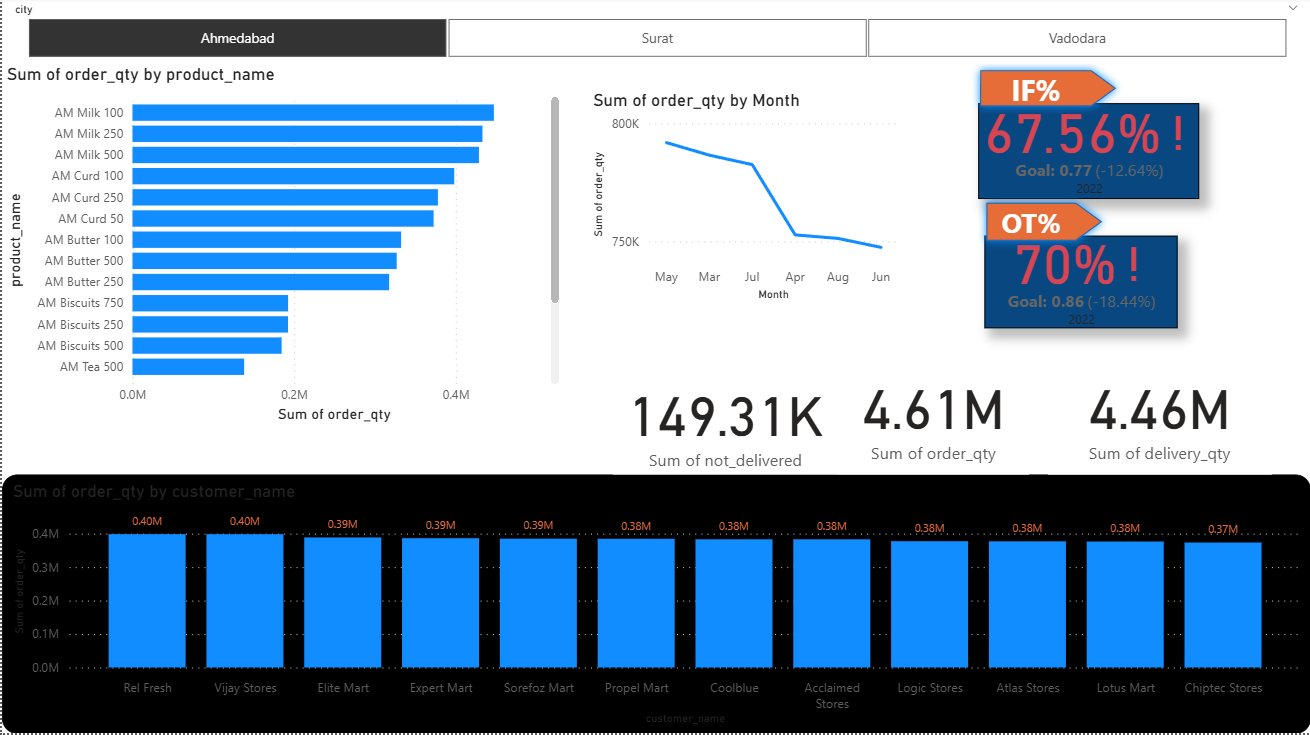

The page's visual inventory and layout, read from the dashboard file:
{"tool":"powerbi","page":{"name":"Page 3","canvas":[1280,720],"ordinal":2},"visuals":[{"type":"kpi","fields":{"TrendLine":["fact_order_lines.Year"],"Goal":["dim_targets_orders.IF_avg"],"Indicator":["fact_order_lines.IF% achieved"]},"box":[954.7,103.4,216.3,94],"z":0,"group":"g1"},{"type":"kpi","fields":{"TrendLine":["fact_order_lines.Year"],"Goal":["dim_targets_orders.OT_avg"],"Indicator":["fact_order_lines.ot%_achieved"]},"box":[960.6,233.1,188.6,90.5],"z":0,"group":"g2"},{"type":"clusteredColumnChart","fields":{"Category":["dim_customers.customer_name"],"Y":["Sum(fact_order_lines.order_qty)"]},"box":[0,466.7,1280,253.3],"z":0},{"type":"barChart","fields":{"Category":["dim_products.product_name"],"Y":["Sum(fact_order_lines.order_qty)"]},"box":[0,65,550,356.7],"z":1},{"type":"lineChart","fields":{"Y":["Sum(fact_order_lines.order_qty)"],"Category":["fact_order_lines.Month"]},"box":[573.3,90,308.3,211.7],"z":2},{"type":"slicer","fields":{"Values":["dim_customers.city"]},"box":[0,0,1280,65],"z":3},{"type":"card","fields":{"Values":["Sum(fact_order_lines.order_qty)"]},"box":[818.3,346.7,186.7,120],"z":4},{"type":"card","fields":{"Values":["Sum(fact_order_lines.delivery_qty)"]},"box":[1023.3,346.7,218.3,120],"z":5},{"type":"group","id":"g1","title":"Group 1","box":[948.3,63.3,223.3,133.3],"z":6},{"type":"group","id":"g2","title":"Group 1","box":[955,193.3,193.3,130],"z":7},{"type":"card","fields":{"Values":["Sum(fact_order_lines.not_delivered)"]},"box":[598.3,360,220,106.7],"z":8},{"type":"shape","box":[948.3,63.3,149,51.4],"z":1000,"group":"g1"},{"type":"shape","box":[955,193.3,129.2,53.2],"z":1000,"group":"g2"}]}

Visuals, with their boxes in screenshot pixels (x1, y1, x2, y2), scaled from the page's 1280x720 canvas onto the 1310x735 screenshot:
kpi - fact_order_lines.Year x dim_targets_orders.IF_avg: select_region(977, 106, 1198, 202)
kpi - fact_order_lines.Year x dim_targets_orders.OT_avg: select_region(983, 238, 1176, 330)
clusteredColumnChart - dim_customers.customer_name x Sum(fact_order_lines.order_qty): select_region(0, 476, 1309, 734)
barChart - dim_products.product_name x Sum(fact_order_lines.order_qty): select_region(0, 66, 563, 430)
lineChart - Sum(fact_order_lines.order_qty) x fact_order_lines.Month: select_region(587, 92, 902, 308)
slicer - dim_customers.city: select_region(0, 0, 1309, 66)
card - Sum(fact_order_lines.order_qty): select_region(837, 354, 1029, 476)
card - Sum(fact_order_lines.delivery_qty): select_region(1047, 354, 1271, 476)
"Group 1" group: select_region(971, 65, 1199, 201)
"Group 1" group: select_region(977, 197, 1175, 330)
card - Sum(fact_order_lines.not_delivered): select_region(612, 368, 837, 476)
shape: select_region(971, 65, 1123, 117)
shape: select_region(977, 197, 1110, 252)
